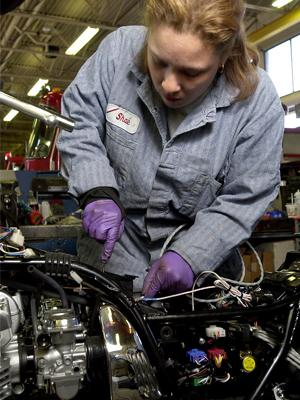person: (55, 1, 286, 302)
